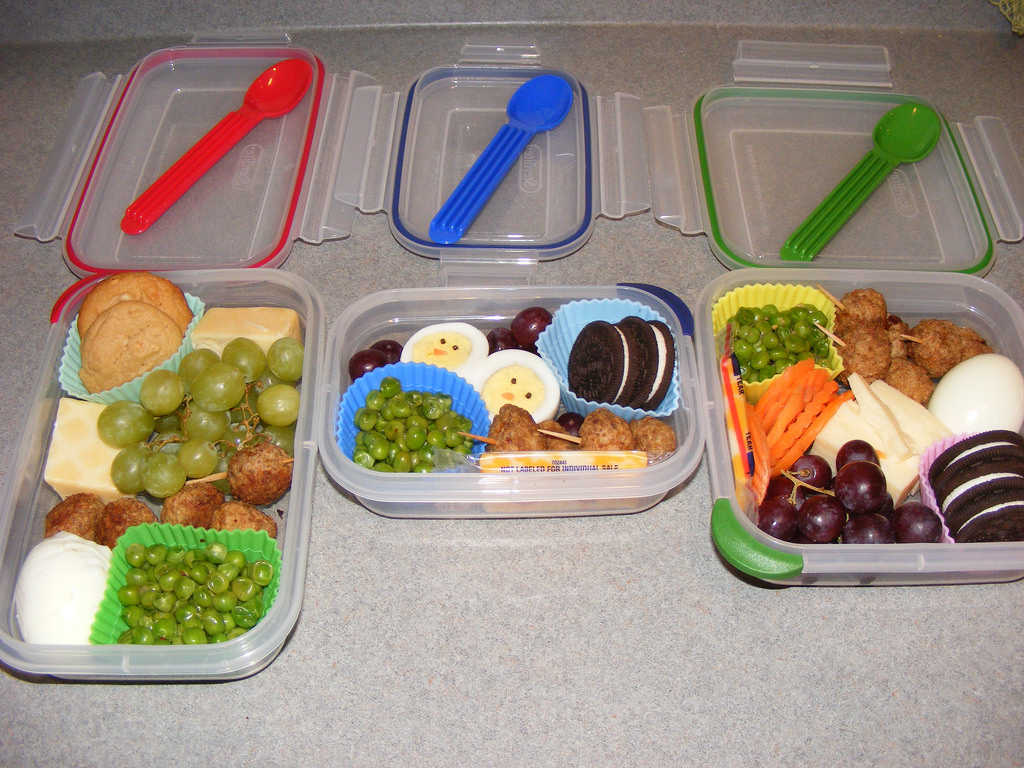boiled peas: (109, 541, 274, 649), (346, 372, 480, 481), (720, 289, 833, 385)
meatballs: (224, 438, 291, 508), (831, 321, 896, 388), (909, 318, 991, 371), (489, 404, 549, 462), (208, 498, 282, 545), (90, 498, 160, 540), (624, 412, 680, 464), (579, 407, 639, 455), (41, 494, 106, 538), (162, 479, 220, 528), (888, 357, 936, 401), (839, 289, 891, 328)
